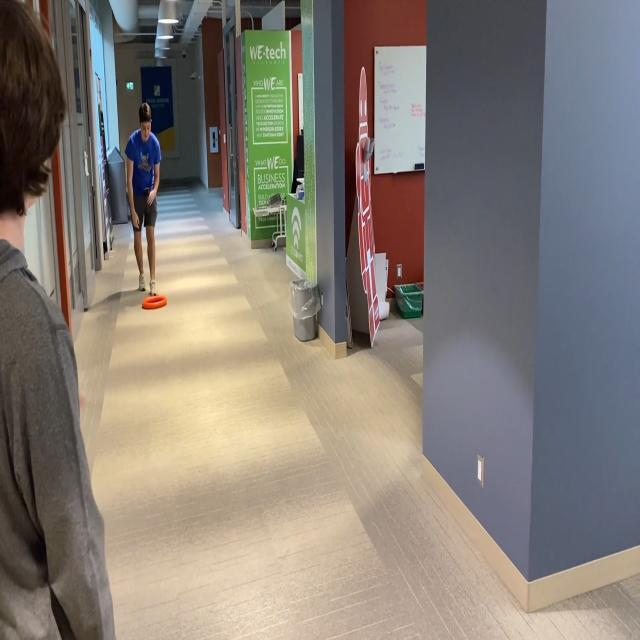note: (142, 289, 168, 310)
